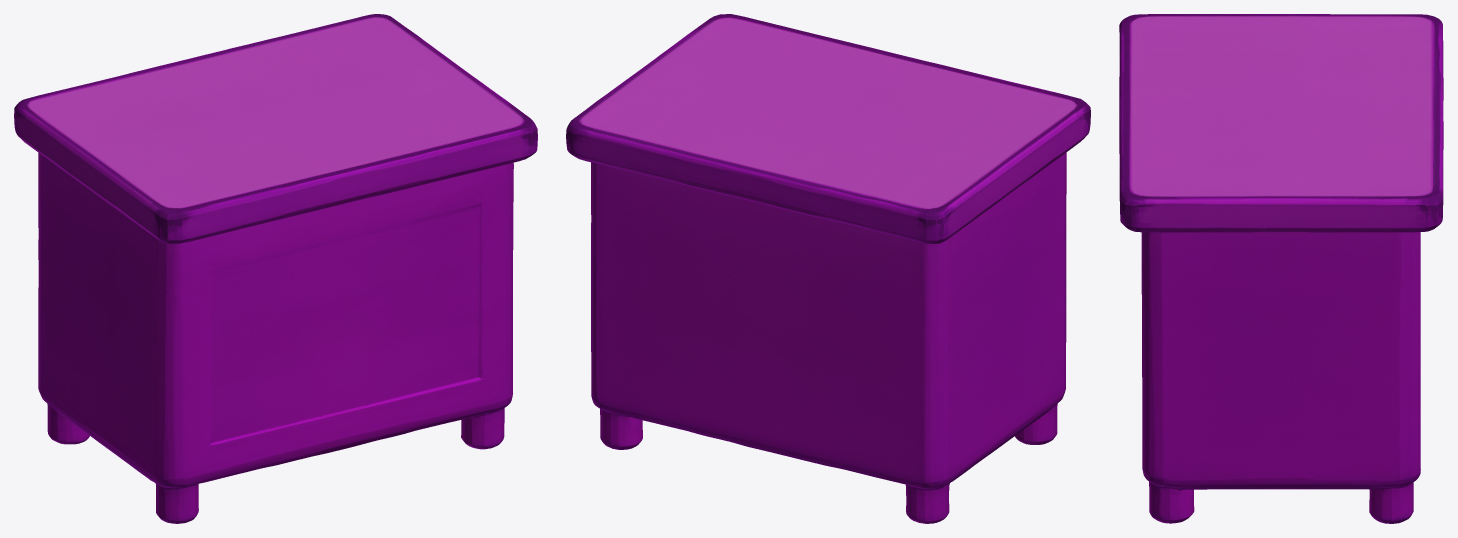
The picture shows the model from 3 angles, left to right: view 1: azimuth 30°, elevation 25°; view 2: azimuth 150°, elevation 25°; view 3: azimuth 270°, elevation 25°; orthographic projection. The views are drawn at different scales.
Visible parts, largest first — view 1: world; view 2: world; view 3: world.
Part boxes in pixels (<box>): world: <box>14,14,537,523</box>; world: <box>566,14,1090,523</box>; world: <box>1119,14,1443,523</box>.
Size of the model in its own units: 100 by 83.24 by 73.04.
Materials: 1 (1 with a texture image).
